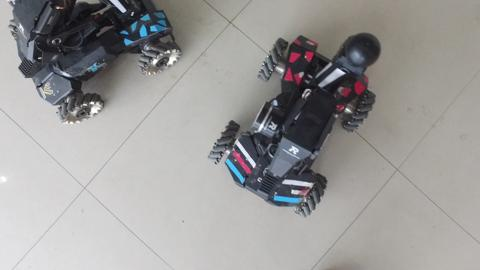chariot: (208, 21, 386, 221), (6, 1, 188, 129)
